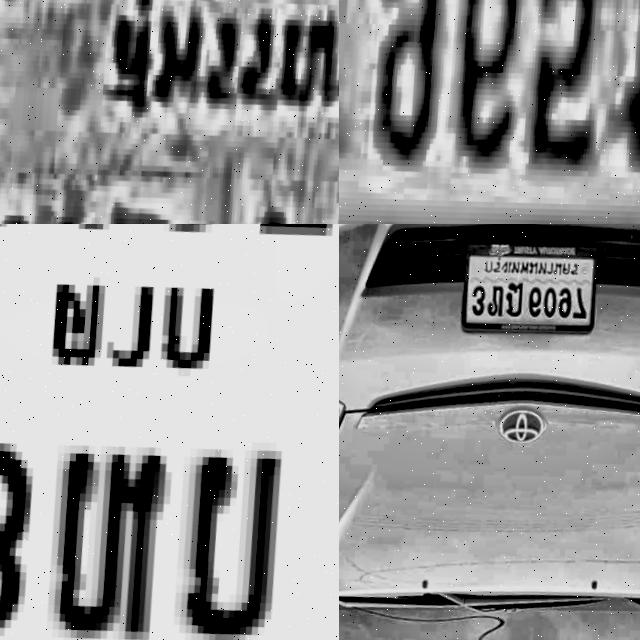license-plate: (0, 224, 339, 640), (0, 0, 339, 224), (339, 0, 640, 224), (455, 232, 602, 351)
